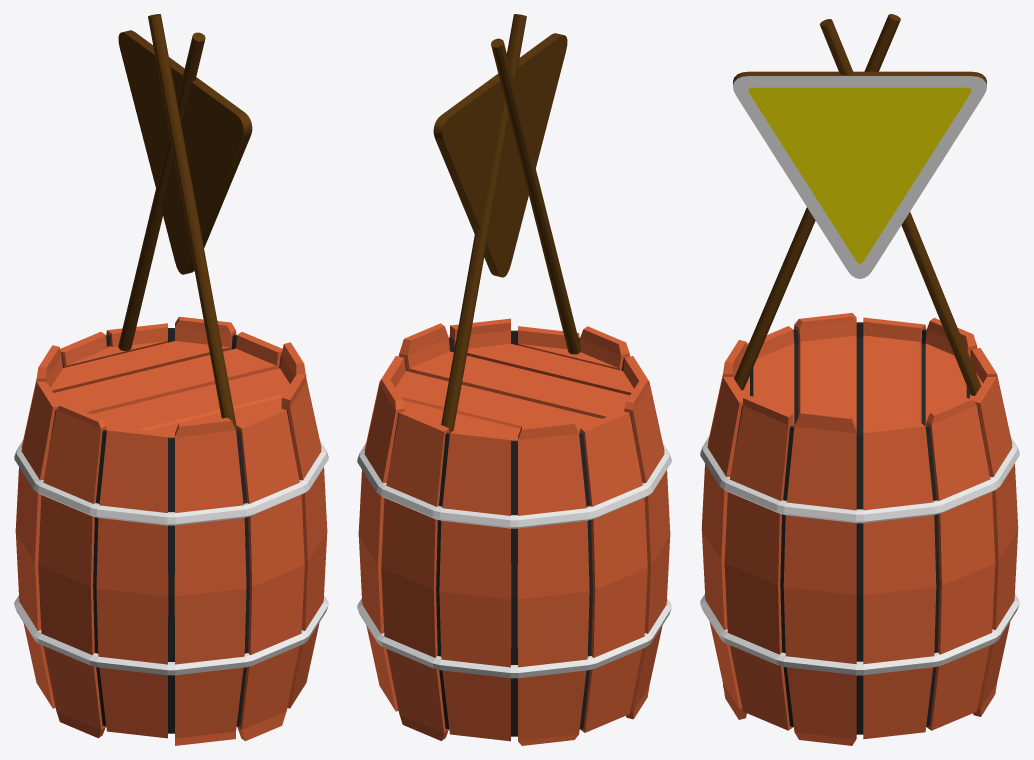
The model's file is GiveRightOfWay.fbx.
3 views of the same model, side by side, from view 1: azimuth 30°, elevation 25°; view 2: azimuth 150°, elevation 25°; view 3: azimuth 270°, elevation 25° (orthographic).
Visible parts, largest first — view 1: Barrel.002; view 2: Barrel.002; view 3: Barrel.002.
Part boxes in pixels (bbox=[...]): Barrel.002: bbox=[14, 14, 328, 745]; Barrel.002: bbox=[357, 14, 671, 745]; Barrel.002: bbox=[700, 14, 1019, 745].
Size of the model in its own units: 56.71 by 133 by 56.72.
